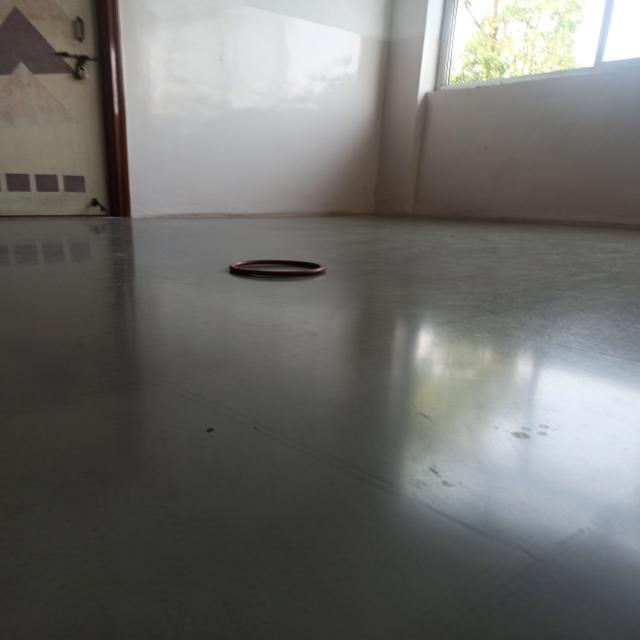daire: (230, 256, 325, 282)
